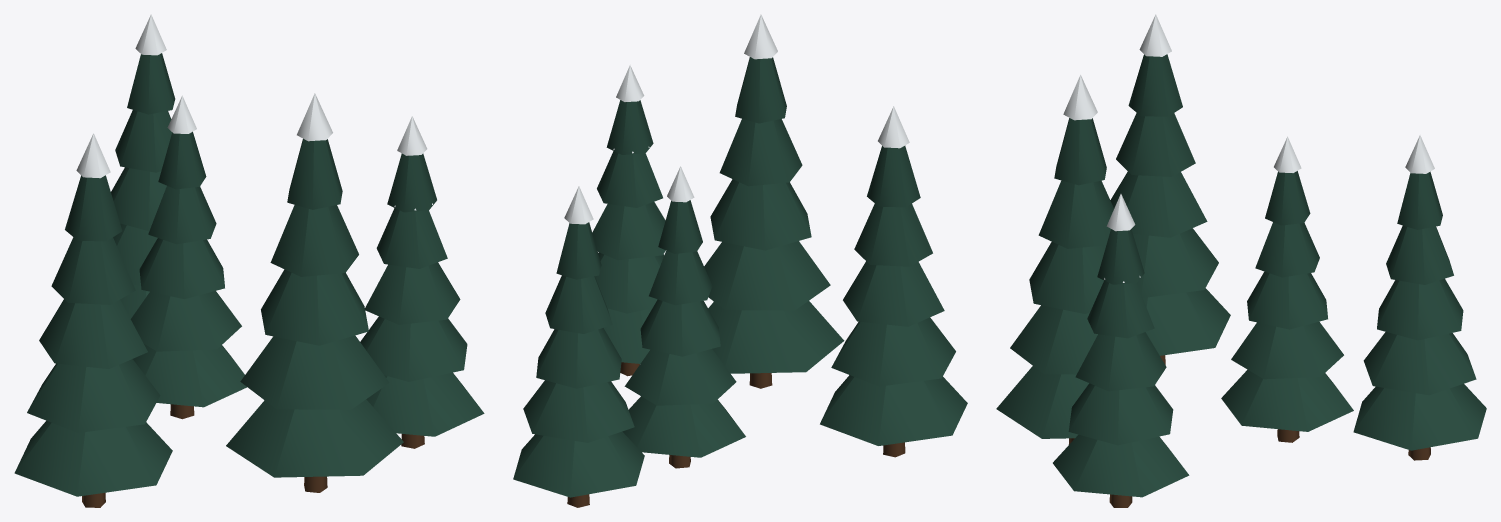
The model's file is sawyer_spruce_ridge_d.glb.
The picture shows the model from 3 angles, left to right: view 1: azimuth 30°, elevation 25°; view 2: azimuth 150°, elevation 25°; view 3: azimuth 270°, elevation 25°; orthographic projection. The views are drawn at different scales.
Parts seen in each view (by area): view 1: snowspruce_1_tier0, snowspruce_0_tier0, snowspruce_1_tier1, snowspruce_0_tier1, snowspruce_1_tier2, snowspruce_0_tier2, snowspruce_4_tier1, snowspruce_2_tier1, snowspruce_4_tier0, snowspruce_2_tier0, snowspruce_1_tier3, snowspruce_4_tier2 (+17 smaller); view 2: snowspruce_0_tier0, snowspruce_1_tier0, snowspruce_1_tier1, snowspruce_3_tier0, snowspruce_0_tier1, snowspruce_1_tier2, snowspruce_2_tier0, snowspruce_3_tier1, snowspruce_0_tier2, snowspruce_2_tier1, snowspruce_1_tier3, snowspruce_3_tier2 (+18 smaller); view 3: snowspruce_3_tier0, snowspruce_4_tier0, snowspruce_2_tier0, snowspruce_3_tier1, snowspruce_4_tier1, snowspruce_2_tier1, snowspruce_0_tier0, snowspruce_0_tier1, snowspruce_0_tier2, snowspruce_1_tier1, snowspruce_3_tier2, snowspruce_1_tier0 (+18 smaller).
Boxes of the visible parts, x1=… form: snowspruce_1_tier0: x1=226, y1=399, x2=403, y2=477; snowspruce_0_tier0: x1=14, y1=420, x2=172, y2=496; snowspruce_1_tier1: x1=240, y1=335, x2=389, y2=409; snowspruce_0_tier1: x1=27, y1=359, x2=160, y2=432; snowspruce_1_tier2: x1=261, y1=269, x2=368, y2=345; snowspruce_0_tier2: x1=39, y1=299, x2=147, y2=368; snowspruce_4_tier1: x1=360, y1=316, x2=467, y2=381; snowspruce_2_tier1: x1=130, y1=291, x2=241, y2=351; snowspruce_4_tier0: x1=366, y1=372, x2=484, y2=436; snowspruce_2_tier0: x1=133, y1=344, x2=246, y2=407; snowspruce_1_tier3: x1=270, y1=205, x2=358, y2=276; snowspruce_4_tier2: x1=365, y1=262, x2=460, y2=324; snowspruce_0_tier0: x1=820, y1=375, x2=967, y2=445; snowspruce_1_tier0: x1=708, y1=301, x2=844, y2=373; snowspruce_1_tier1: x1=704, y1=241, x2=830, y2=310; snowspruce_3_tier0: x1=513, y1=431, x2=644, y2=497; snowspruce_0_tier1: x1=831, y1=317, x2=955, y2=386; snowspruce_1_tier2: x1=710, y1=179, x2=811, y2=250; snowspruce_2_tier0: x1=622, y1=396, x2=745, y2=457; snowspruce_3_tier1: x1=523, y1=380, x2=634, y2=442; snowspruce_0_tier2: x1=843, y1=261, x2=944, y2=326; snowspruce_2_tier1: x1=624, y1=349, x2=736, y2=405; snowspruce_1_tier3: x1=719, y1=119, x2=802, y2=186; snowspruce_3_tier2: x1=536, y1=328, x2=621, y2=388; snowspruce_3_tier0: x1=1353, y1=384, x2=1486, y2=450; snowspruce_4_tier0: x1=1053, y1=434, x2=1189, y2=497; snowspruce_2_tier0: x1=1221, y1=369, x2=1353, y2=431; snowspruce_3_tier1: x1=1363, y1=332, x2=1476, y2=395; snowspruce_4_tier1: x1=1068, y1=383, x2=1173, y2=445; snowspruce_2_tier1: x1=1231, y1=321, x2=1343, y2=379; snowspruce_0_tier0: x1=1143, y1=288, x2=1230, y2=355; snowspruce_0_tier1: x1=1133, y1=228, x2=1218, y2=297; snowspruce_0_tier2: x1=1110, y1=171, x2=1207, y2=237; snowspruce_1_tier1: x1=1010, y1=305, x2=1097, y2=374; snowspruce_3_tier2: x1=1377, y1=278, x2=1463, y2=340; snowspruce_1_tier0: x1=996, y1=366, x2=1089, y2=438.
Bounding box in the file's own units: 3.93 × 3.44 × 4.08.
